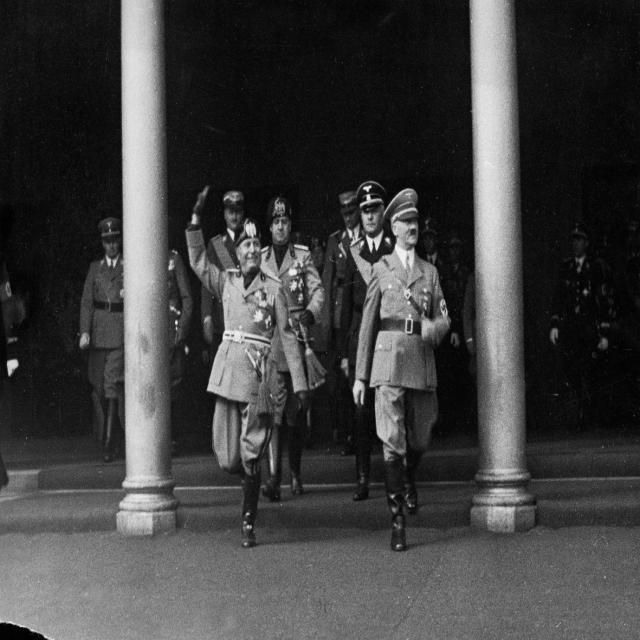body: (182, 181, 314, 552), (349, 184, 453, 556), (337, 176, 417, 504), (258, 194, 328, 504), (415, 211, 489, 447), (339, 186, 395, 460), (139, 215, 198, 463), (548, 217, 612, 436), (78, 216, 125, 463), (199, 187, 246, 363), (0, 238, 26, 492)
